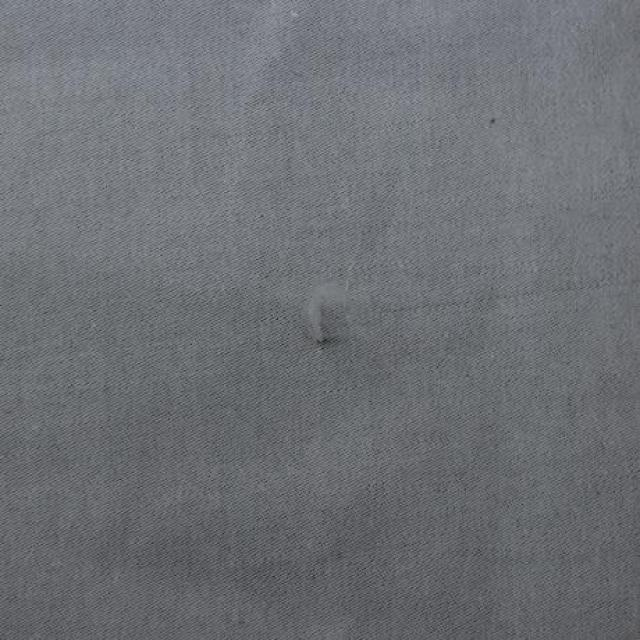stains: (242, 256, 406, 402)
